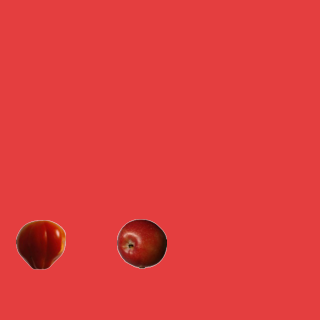Apple Braeburn: (116, 218, 166, 268)
Tomato 1: (15, 219, 65, 269)
